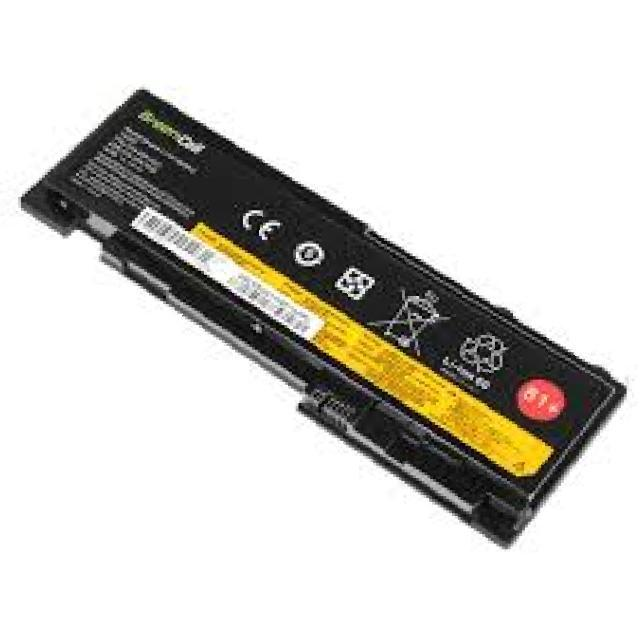Battery: (16, 64, 640, 575)
